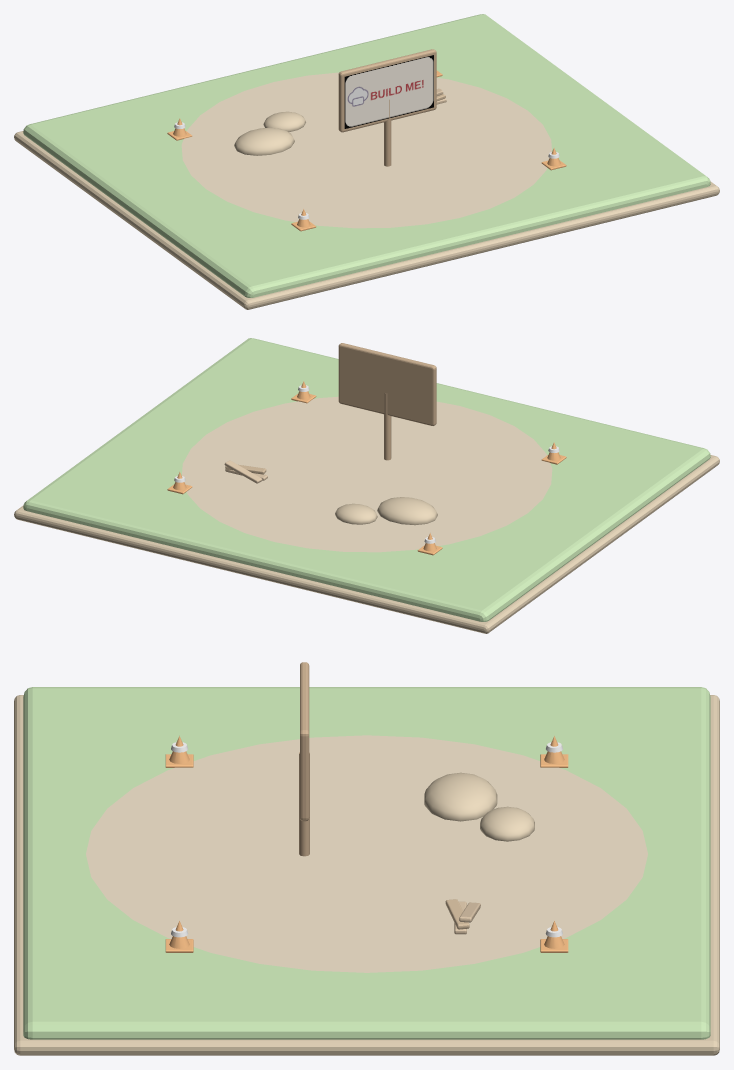
File: building_restaurant_L00.glb
3 views of the same model, one above another, from view 1: azimuth 30°, elevation 25°; view 2: azimuth 150°, elevation 25°; view 3: azimuth 270°, elevation 25° (orthographic). The views are drawn at different scales.
Visible parts, largest first — view 1: restaurant_L0; view 2: restaurant_L0; view 3: restaurant_L0.
Part boxes in pixels (box(x1,y1,x2,y2)): restaurant_L0: box(14, 14, 719, 309); restaurant_L0: box(14, 338, 719, 633); restaurant_L0: box(14, 662, 719, 1055).
Size of the model in its own units: 26.61 by 6.57 by 22.6.
Materials: 9 (1 with a texture image).
